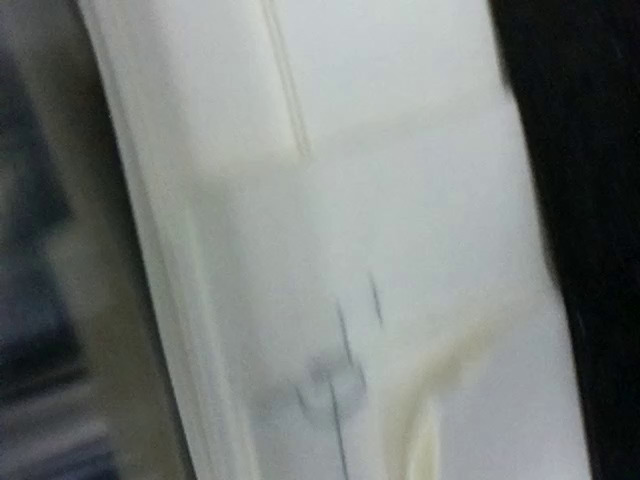not_sure: (242, 299, 369, 430)
